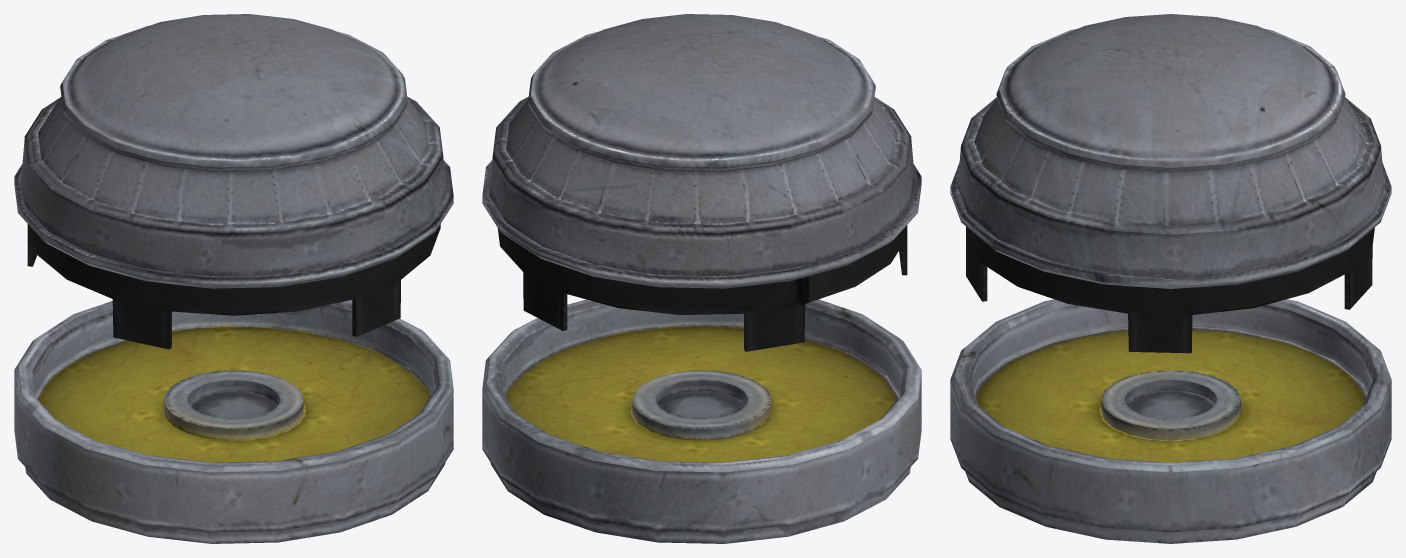
File: SmallKoker.fbx
3 views of the same model, side by side, from view 1: azimuth 30°, elevation 25°; view 2: azimuth 150°, elevation 25°; view 3: azimuth 270°, elevation 25° (orthographic).
Parts seen in each view (by area): view 1: Koker1_body; view 2: Koker1_body; view 3: Koker1_body.
Part boxes in pixels (box(x1,y1,x2,y2)): Koker1_body: box(14, 14, 453, 543); Koker1_body: box(482, 14, 921, 543); Koker1_body: box(950, 14, 1391, 543).
Bounding box in the file's own units: 1.27 × 1.29 × 1.27.
